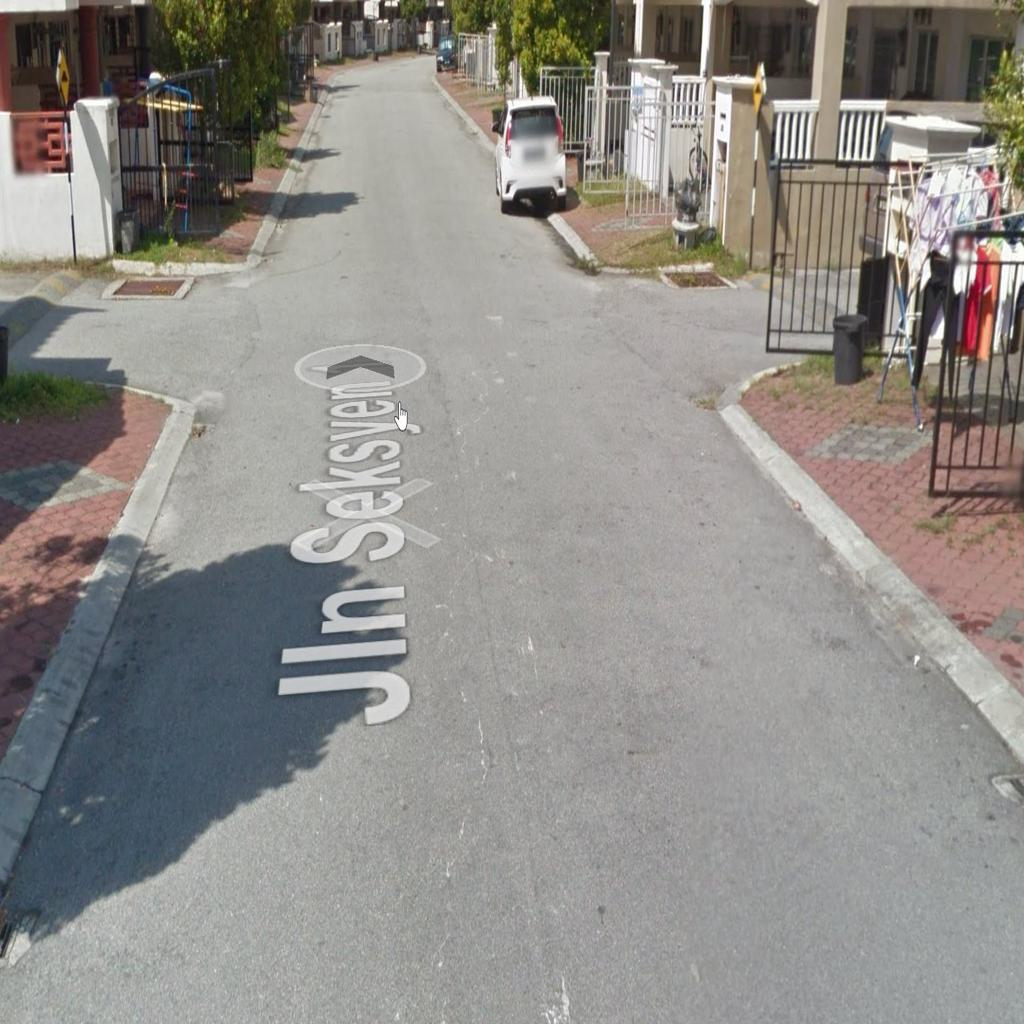Junction: (596, 200, 872, 416), (5, 216, 273, 428)
